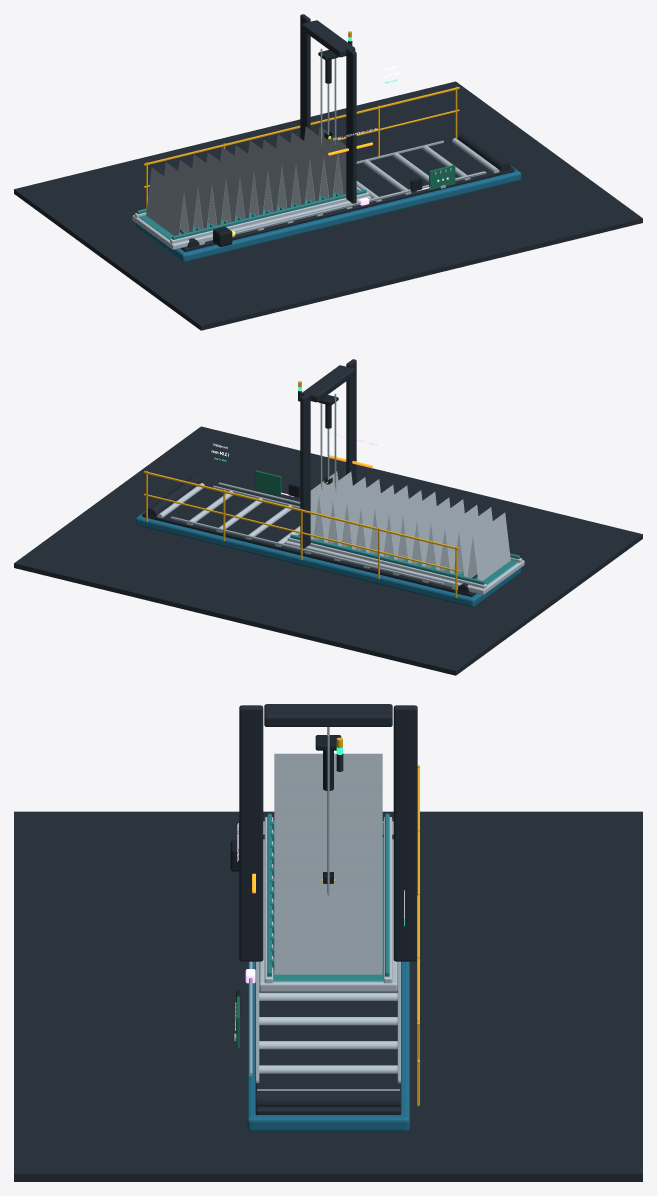
File: rolling_lvdt_indexer.glb
The picture shows the model from 3 angles, top to bottom: view 1: azimuth 30°, elevation 25°; view 2: azimuth 150°, elevation 25°; view 3: azimuth 270°, elevation 25°; orthographic projection. The views are drawn at different scales.
Parts seen in each view (by area): view 1: Factory floor, Moving belt, Conveyor chassis, Open folded fin 01, Fixed C-frame post, Fixed C-frame post.001, Open folded fin 06, Open folded fin 04, Open folded fin 10, Open folded fin 08, Open folded fin 02, Open folded fin 12 (+14 smaller); view 2: Factory floor, Moving belt, Conveyor chassis, Open folded fin 01, Fixed C-frame post.001, Radiator pallet, Fixed C-frame post, Open folded fin 06, Open folded fin 12, Open folded fin 04, Open folded fin 10, Open folded fin 02 (+15 smaller); view 3: Factory floor, Moving belt, Open folded fin 13, Fixed C-frame post.001, Fixed C-frame post, Conveyor chassis, Fixed measurement crossbeam, End roller.001, Radiator pallet, Open folded fin 12, Open folded fin 08, Open folded fin 06 (+19 smaller).
Part boxes in pixels (box(x1,y1,x2,y2)): Factory floor: box(14, 81, 642, 330); Moving belt: box(180, 142, 514, 251); Conveyor chassis: box(135, 166, 521, 262); Open folded fin 01: box(146, 167, 188, 235); Fixed C-frame post: box(346, 47, 356, 203); Fixed C-frame post.001: box(300, 14, 310, 140); Open folded fin 06: box(220, 147, 259, 218); Open folded fin 04: box(192, 154, 231, 225); Open folded fin 10: box(276, 134, 315, 204); Open folded fin 08: box(248, 140, 287, 211); Open folded fin 02: box(164, 162, 203, 231); Open folded fin 12: box(304, 126, 343, 197); Factory floor: box(14, 426, 642, 675); Moving belt: box(142, 488, 476, 596); Conveyor chassis: box(135, 511, 521, 607); Open folded fin 01: box(468, 512, 510, 580); Fixed C-frame post.001: box(300, 392, 310, 548); Radiator pallet: box(285, 533, 524, 594); Fixed C-frame post: box(346, 359, 356, 485); Open folded fin 06: box(397, 492, 436, 563); Open folded fin 12: box(313, 471, 352, 542); Open folded fin 04: box(425, 499, 464, 570); Open folded fin 10: box(341, 479, 380, 549); Open folded fin 02: box(453, 507, 492, 576); Factory floor: box(14, 811, 642, 1181); Moving belt: box(255, 962, 401, 1114); Open folded fin 13: box(274, 891, 382, 974); Fixed C-frame post.001: box(393, 705, 417, 961); Fixed C-frame post: box(239, 705, 263, 961); Conveyor chassis: box(247, 961, 409, 1131); Fixed measurement crossbeam: box(264, 704, 392, 726); End roller.001: box(256, 1090, 400, 1107); Radiator pallet: box(259, 821, 397, 991); Open folded fin 12: box(274, 874, 382, 891); Open folded fin 08: box(274, 828, 382, 844); Open folded fin 06: box(274, 805, 382, 819).
Bounding box in the file's own units: 30 × 11.35 × 22.
